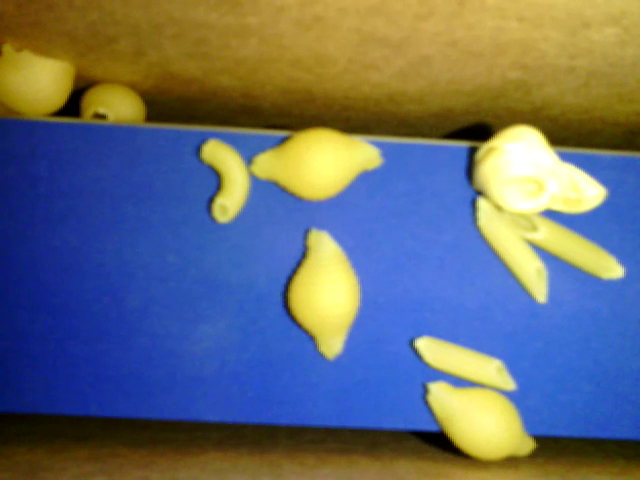elbow: (199, 137, 250, 222)
penne: (504, 210, 624, 281), (475, 196, 548, 303), (413, 336, 518, 390)
shell: (284, 227, 361, 360), (250, 127, 383, 200), (425, 381, 537, 460), (1, 44, 74, 117), (80, 83, 143, 122)
tortellini: (471, 123, 608, 215)
